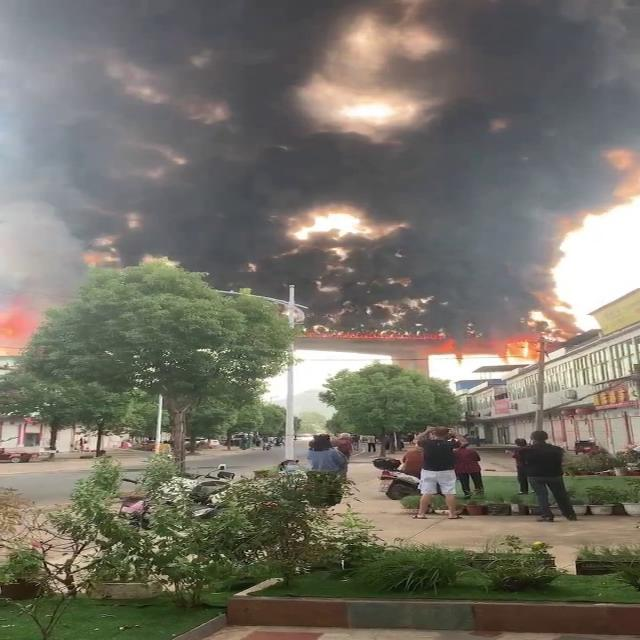Smoke: (33, 0, 640, 328)
